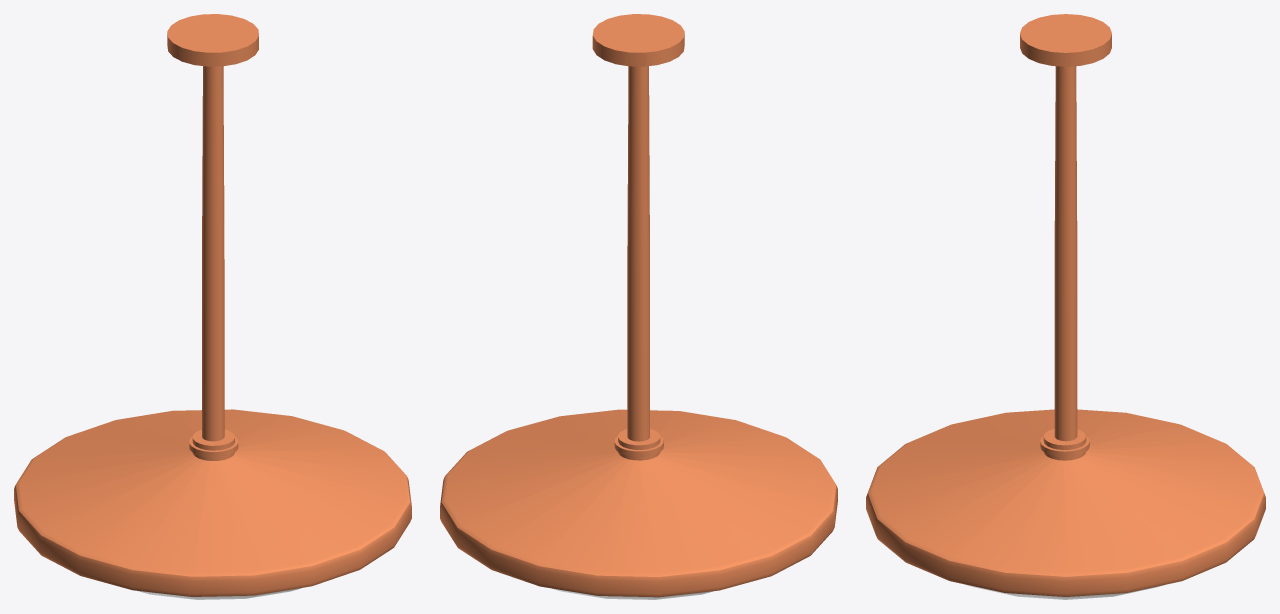
Rendered from lamp.obj.
3 renders of one model, left to right at view 1: azimuth 30°, elevation 25°; view 2: azimuth 150°, elevation 25°; view 3: azimuth 270°, elevation 25°, orthographic.
Visible parts, largest first — view 1: lamp; view 2: lamp; view 3: lamp.
Part boxes in pixels (x1,y1,x2,y2): lamp: [14, 14, 411, 599]; lamp: [440, 14, 837, 599]; lamp: [866, 14, 1265, 599].
Size of the model in its own units: 3.98 by 5.78 by 3.98.
2 materials, 2 textured.
